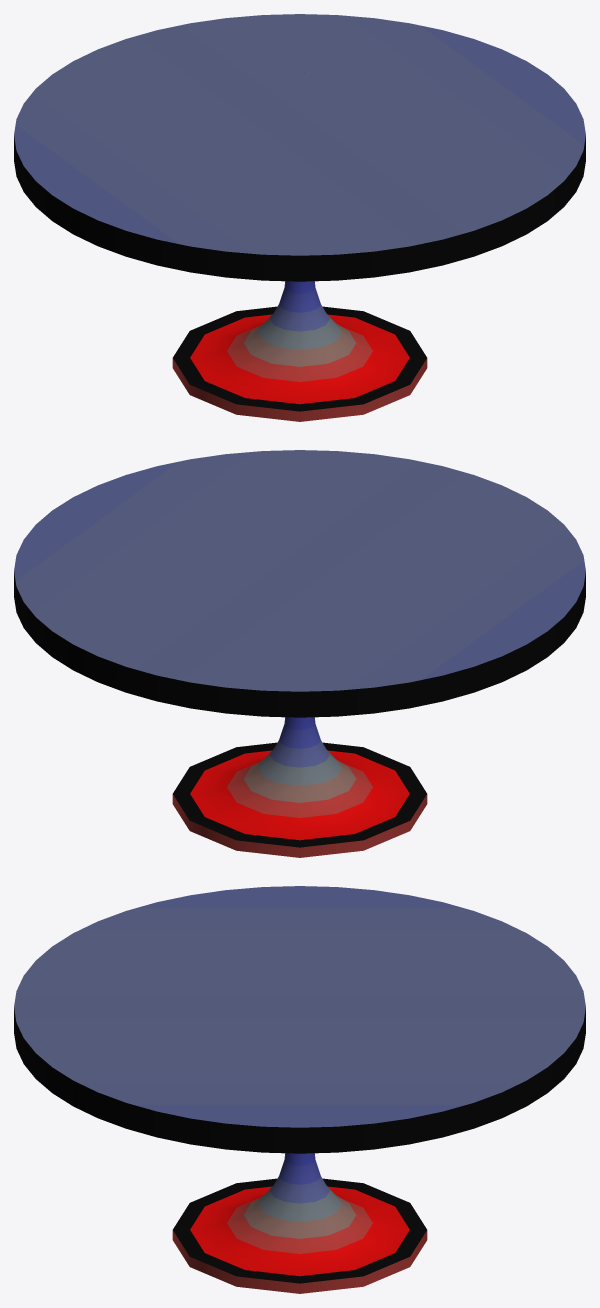
File: Tisch.fbx
3 renders of one model, top to bottom at view 1: azimuth 30°, elevation 25°; view 2: azimuth 150°, elevation 25°; view 3: azimuth 270°, elevation 25°, orthographic.
Visible parts, largest first — view 1: table, table_foot; view 2: table, table_foot; view 3: table, table_foot.
Boxes of the visible parts, box(x1,y1,x2,y2) form: table: box(14, 14, 585, 281); table_foot: box(172, 281, 427, 421); table: box(14, 450, 585, 717); table_foot: box(172, 717, 427, 857); table: box(14, 886, 585, 1153); table_foot: box(172, 1153, 427, 1293).
Size of the model in its own units: 100 by 45 by 100.
